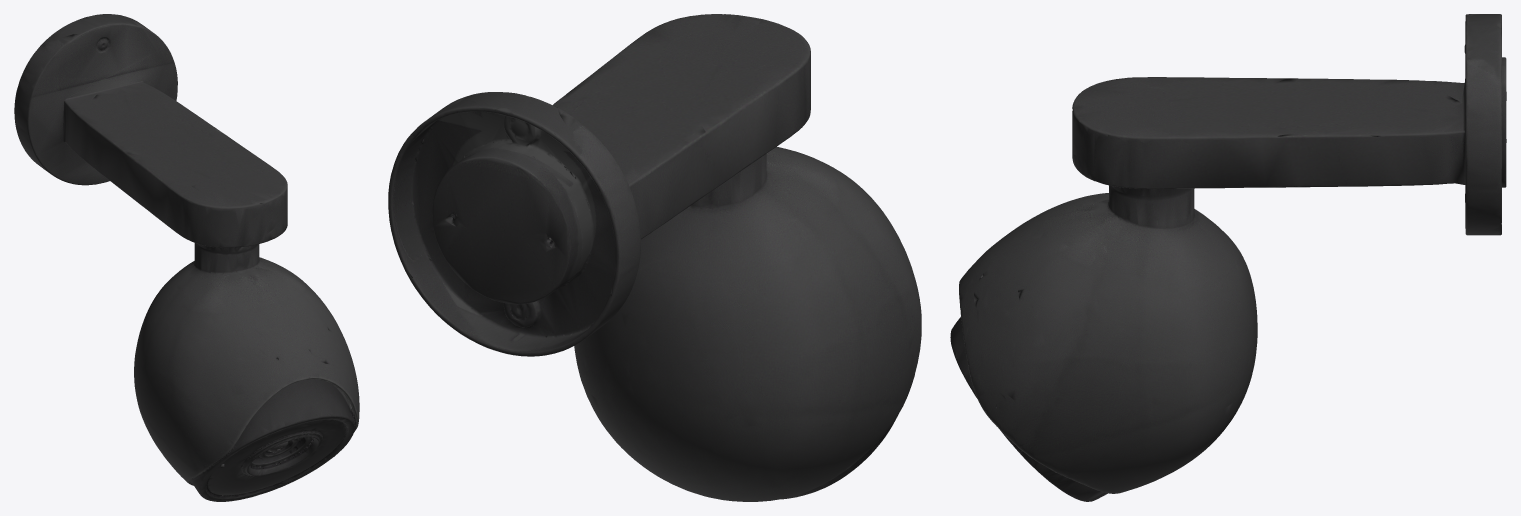
Rendered from surveillance_camera.glb.
3 renders of one model, left to right at view 1: azimuth 30°, elevation 25°; view 2: azimuth 150°, elevation 25°; view 3: azimuth 270°, elevation 25°, orthographic. The views are drawn at different scales.
Bounding box in the file's own units: 0.9186 × 1.76 × 1.91.
1 material, 1 textured.
